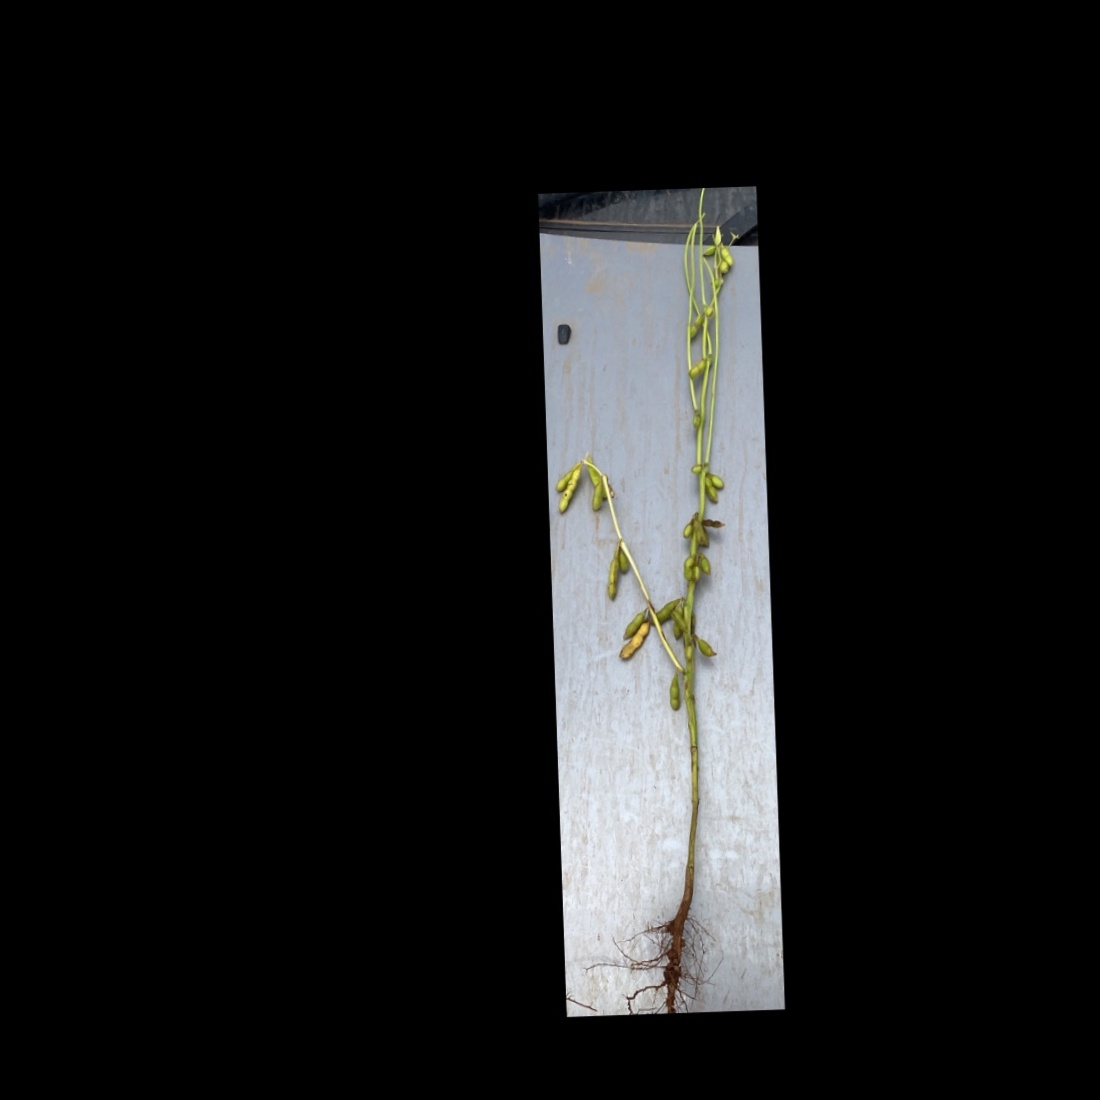pod: (692, 632, 718, 662), (604, 558, 621, 606), (685, 353, 710, 380), (668, 671, 684, 711), (684, 310, 703, 342), (588, 480, 603, 518), (696, 552, 715, 575), (680, 556, 694, 582), (701, 516, 727, 529), (699, 243, 717, 259)
soy: (542, 197, 768, 972)
